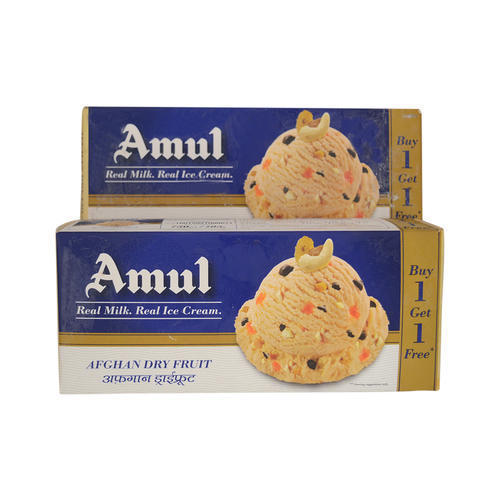Amul: (78, 251, 213, 300), (110, 119, 229, 165)
